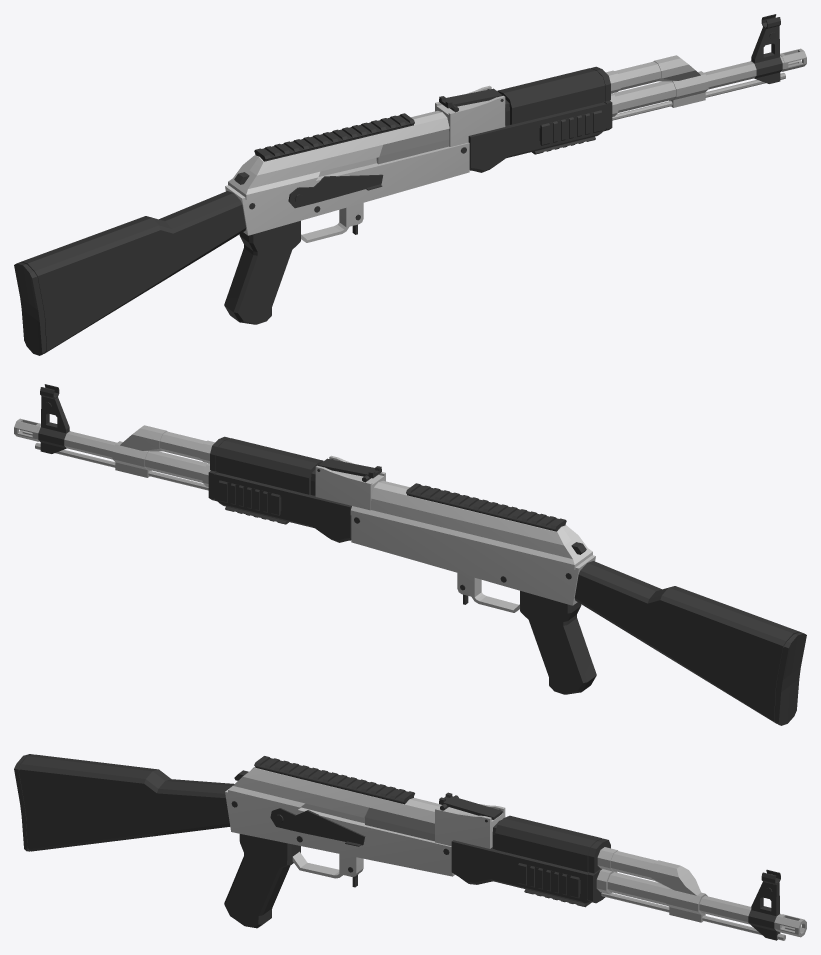
File: AssaultRifle1_05.fbx
3 views of the same model, one above another, from view 1: azimuth 30°, elevation 25°; view 2: azimuth 150°, elevation 25°; view 3: azimuth 330°, elevation 25° (orthographic).
Visible parts, largest first — view 1: AssaultRifle1_05; view 2: AssaultRifle1_05; view 3: AssaultRifle1_05.
Boxes of the visible parts, left/top/right/bottom form: AssaultRifle1_05: left=14, top=14, right=806, bottom=355; AssaultRifle1_05: left=14, top=384, right=806, bottom=725; AssaultRifle1_05: left=14, top=754, right=806, bottom=940.
Bounding box in the file's own units: 0.9618 × 0.2088 × 0.051.
